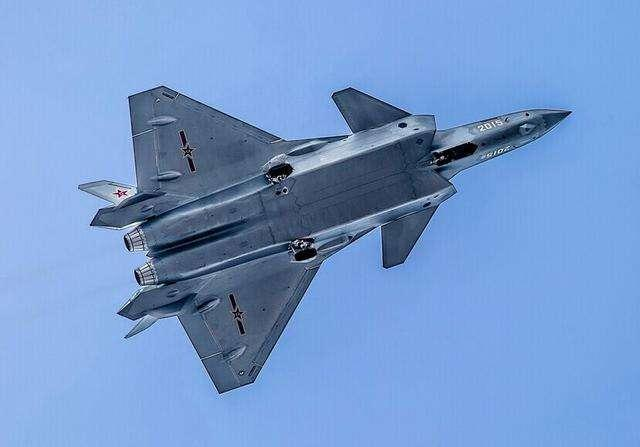airplane: (75, 88, 572, 393)
